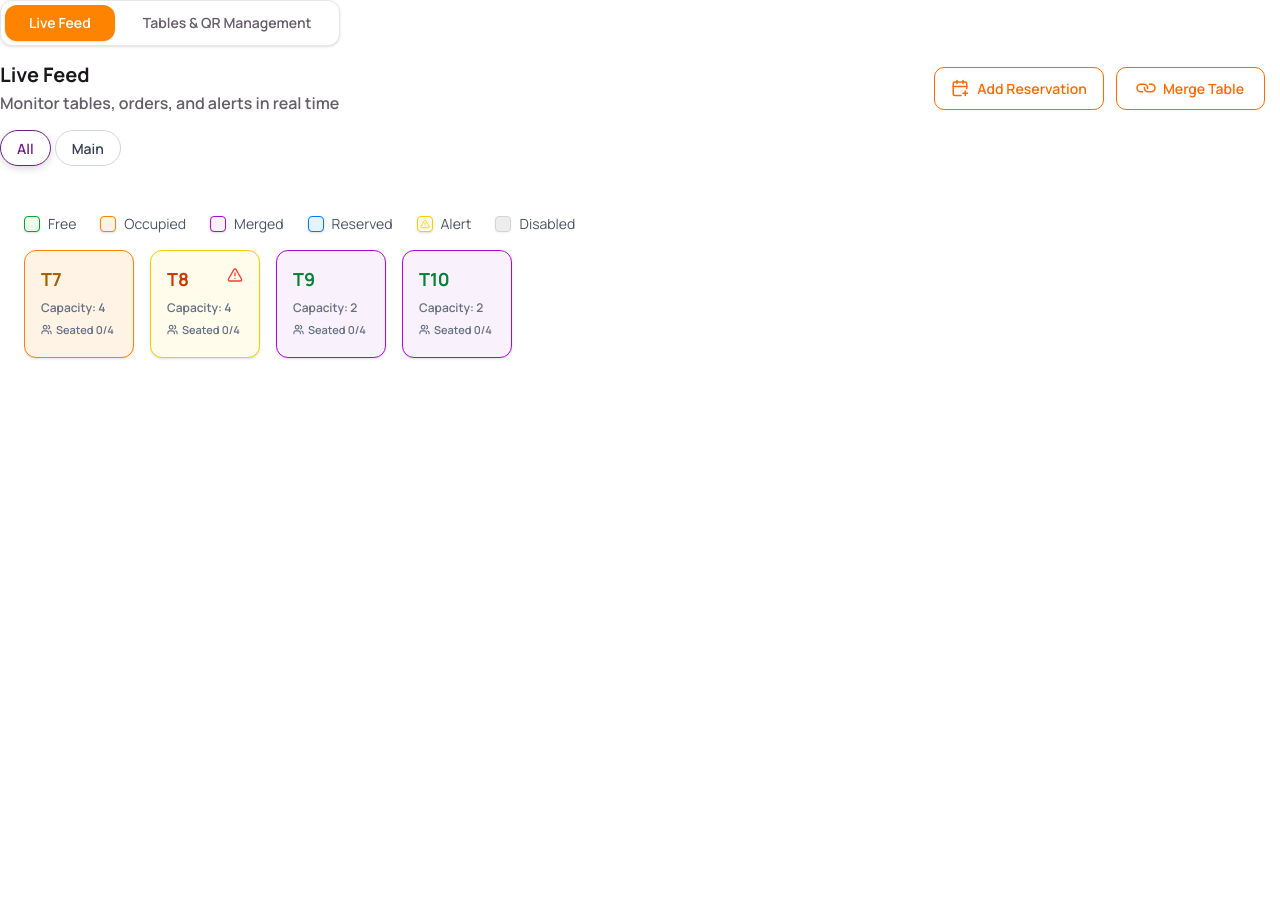
Scenario: TablesDashboard — operations profile › assignWaiters:false hides the waiter picker
Click the text "T8" at coordinates (178, 279), box [167,267,189,291]
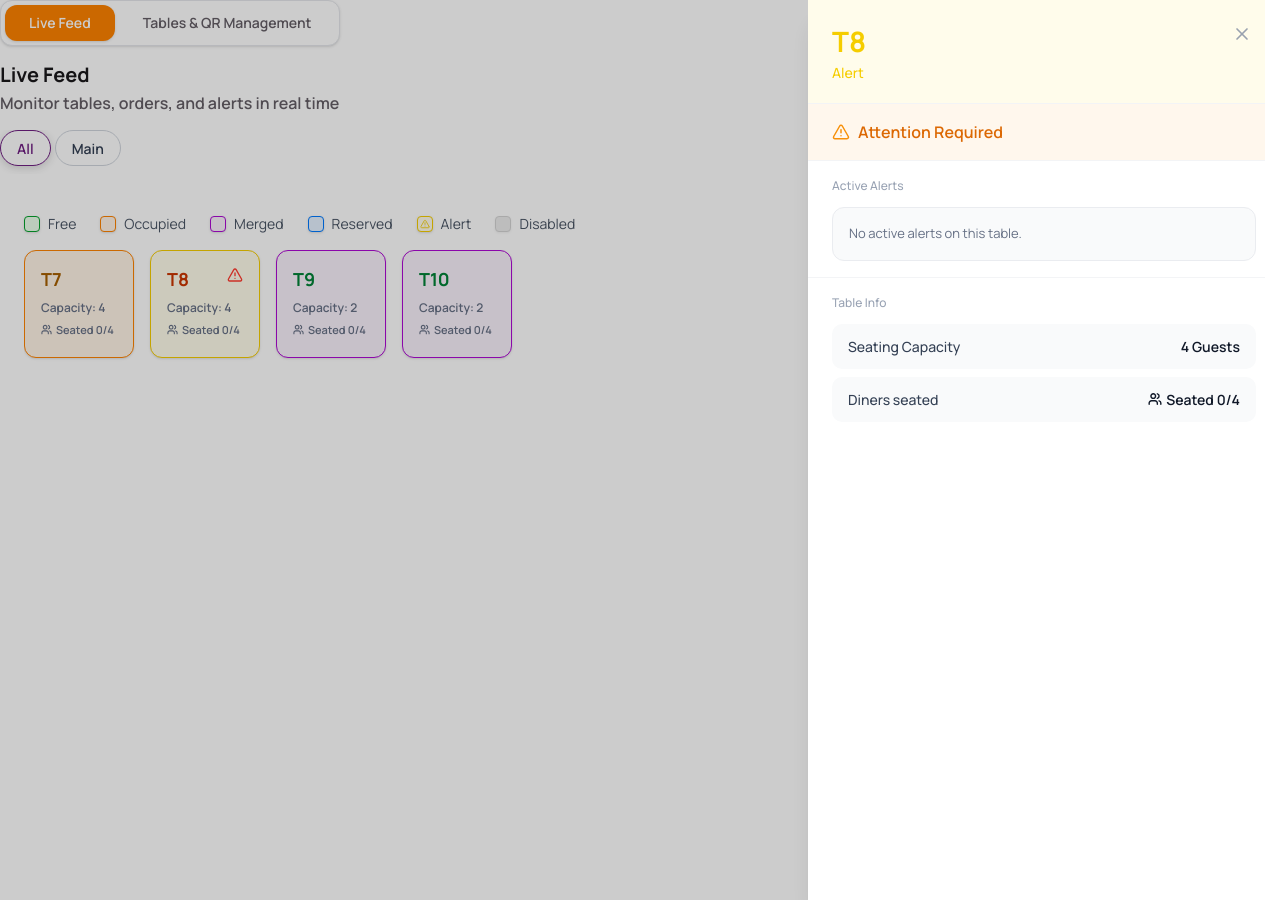
Check: the text "Seating Capacity" is shown, box [848,336,960,356]
